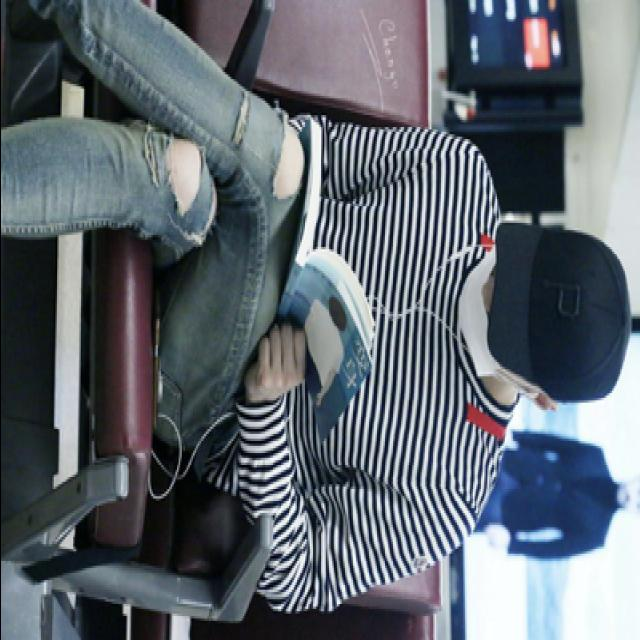mask_weared_incorrect: (456, 250, 520, 384)
